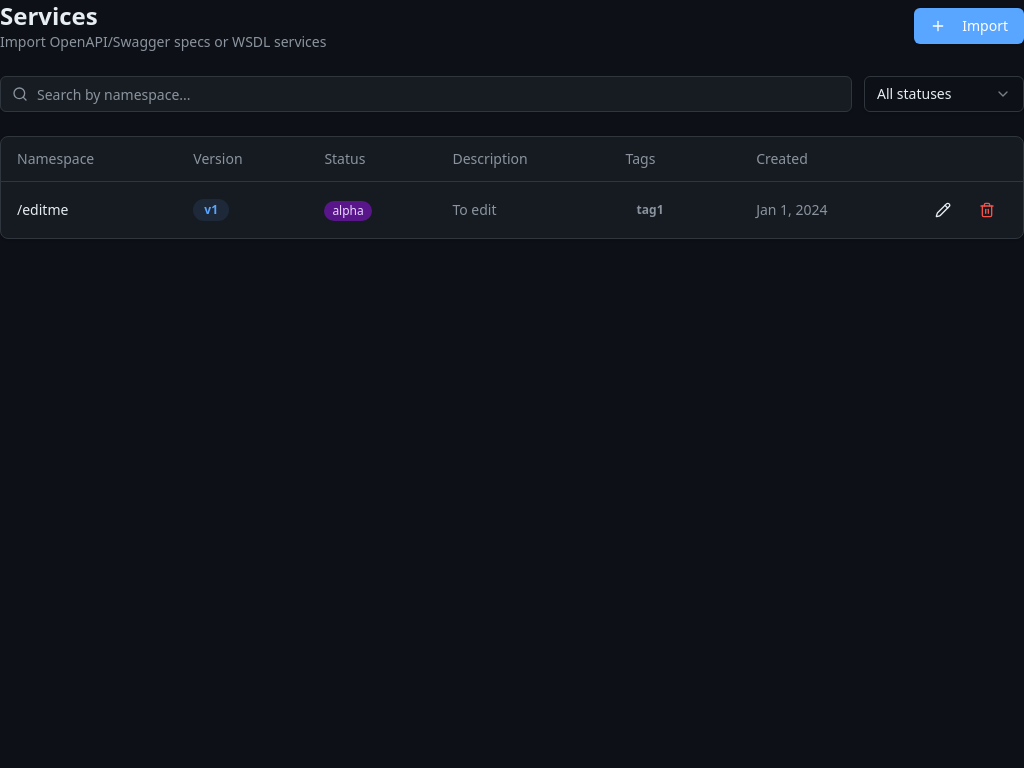
ServicesPage › shows edit modal when edit button clicked
The width and height of the screenshot is (1024, 768).
Check: the text "/editme" is shown, box left=17, top=200, right=68, bottom=219
Click the 2nd button at x=943, y=210, box left=923, top=194, right=963, bottom=226
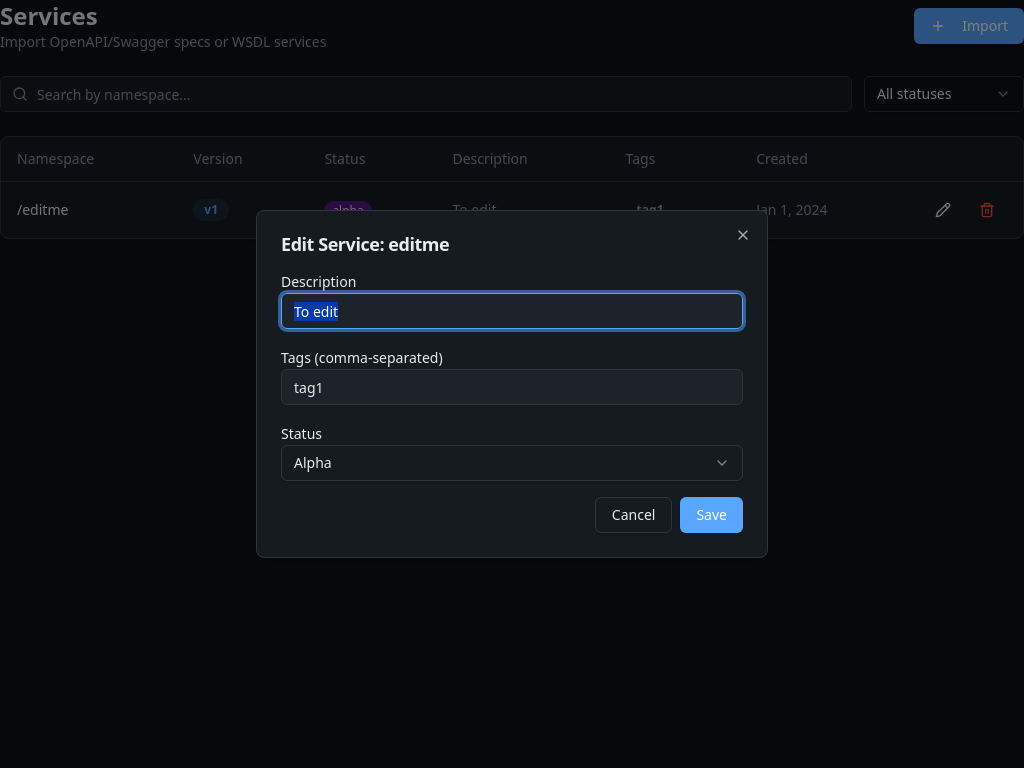
Check: the heading "Edit Service: editme" is shown, box left=281, top=232, right=449, bottom=256
